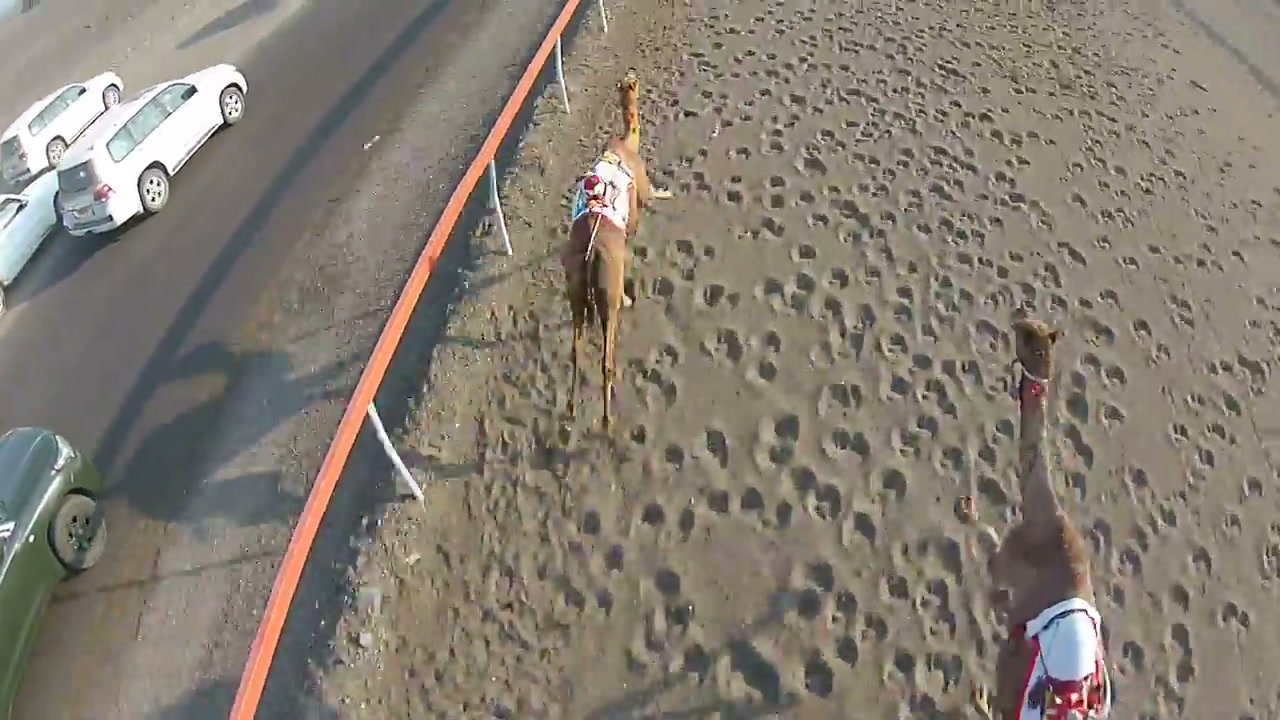animal_footprint: (320, 0, 1279, 717)
